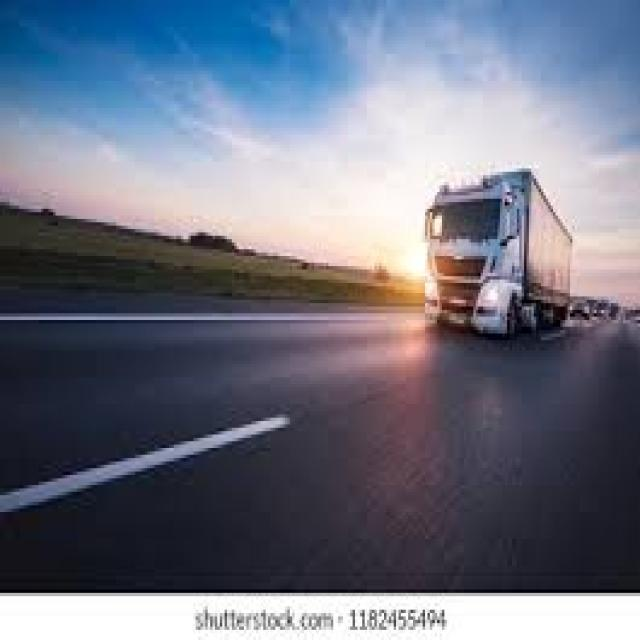covered: (420, 162, 572, 340)
